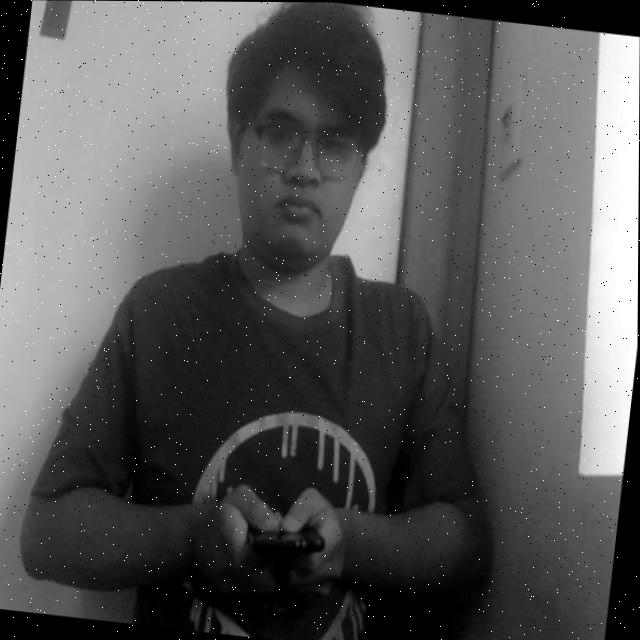phone: (226, 497, 335, 597)
